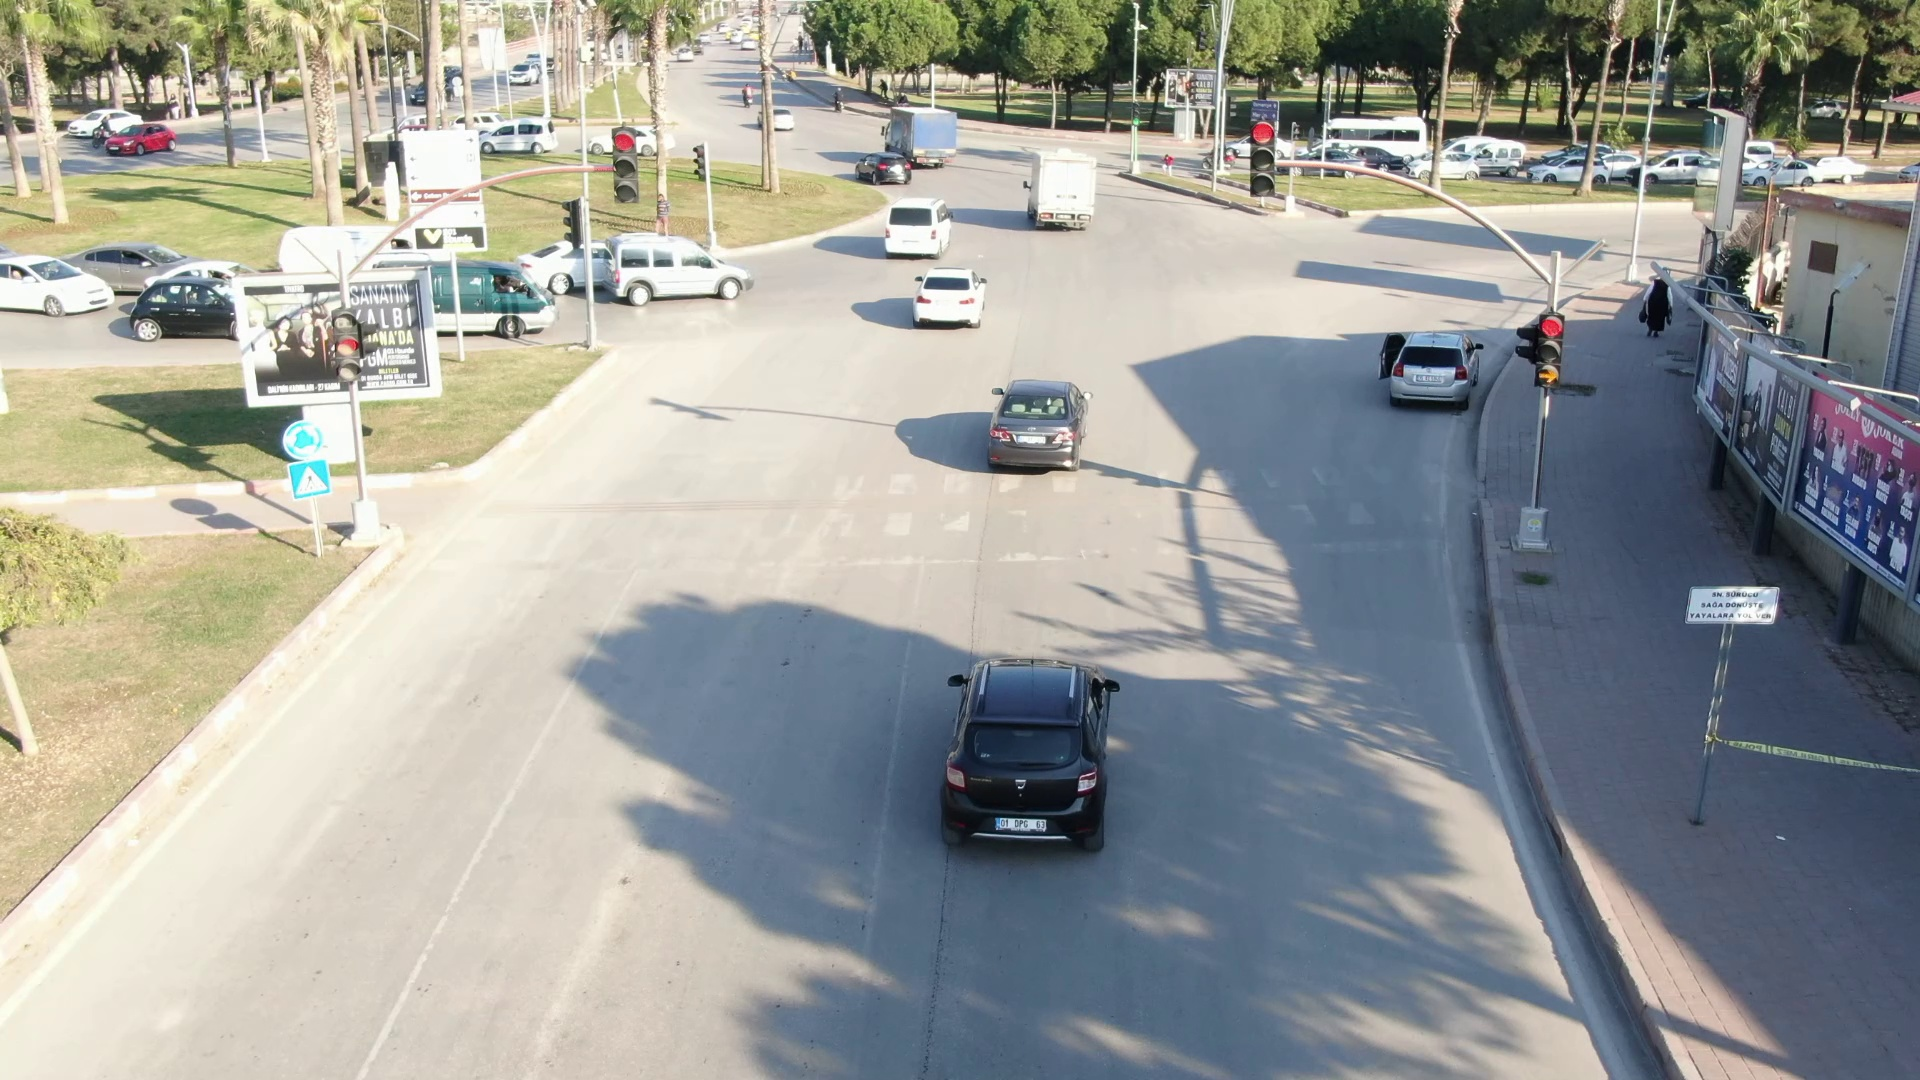car: (895, 631, 1156, 865), (974, 372, 1109, 480), (1374, 316, 1495, 418), (601, 229, 751, 310), (1, 248, 126, 331), (1009, 143, 1109, 234), (905, 262, 1000, 332), (881, 195, 955, 260), (843, 146, 925, 191)
person: (1631, 265, 1686, 335)
